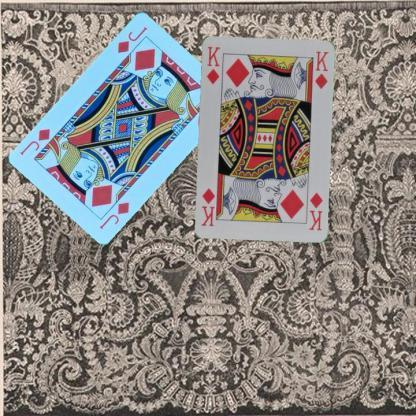Jd: (96, 199, 130, 230), (114, 24, 149, 54)
Kd: (204, 44, 222, 86), (306, 190, 324, 232)
